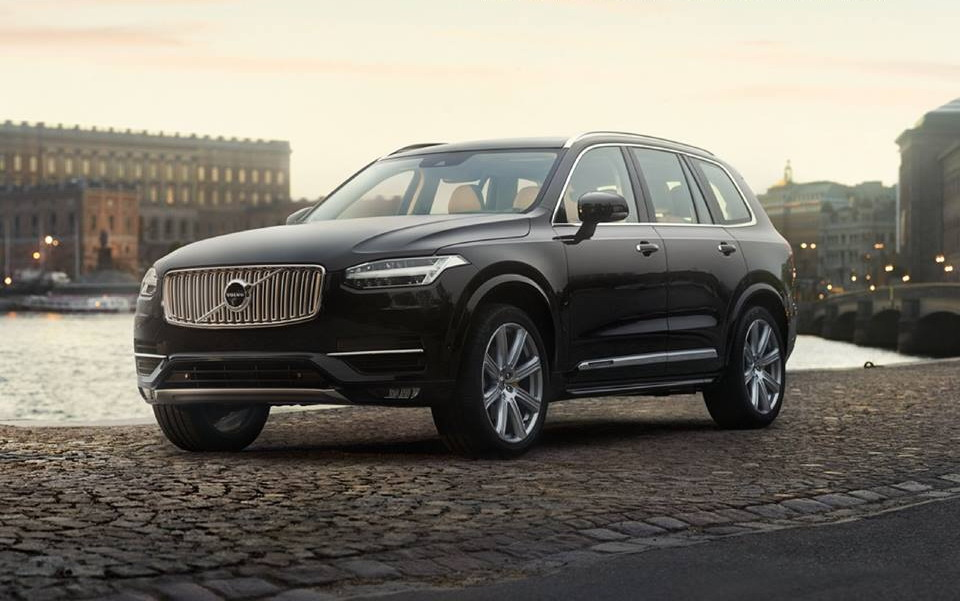pickup: (129, 131, 801, 460)
